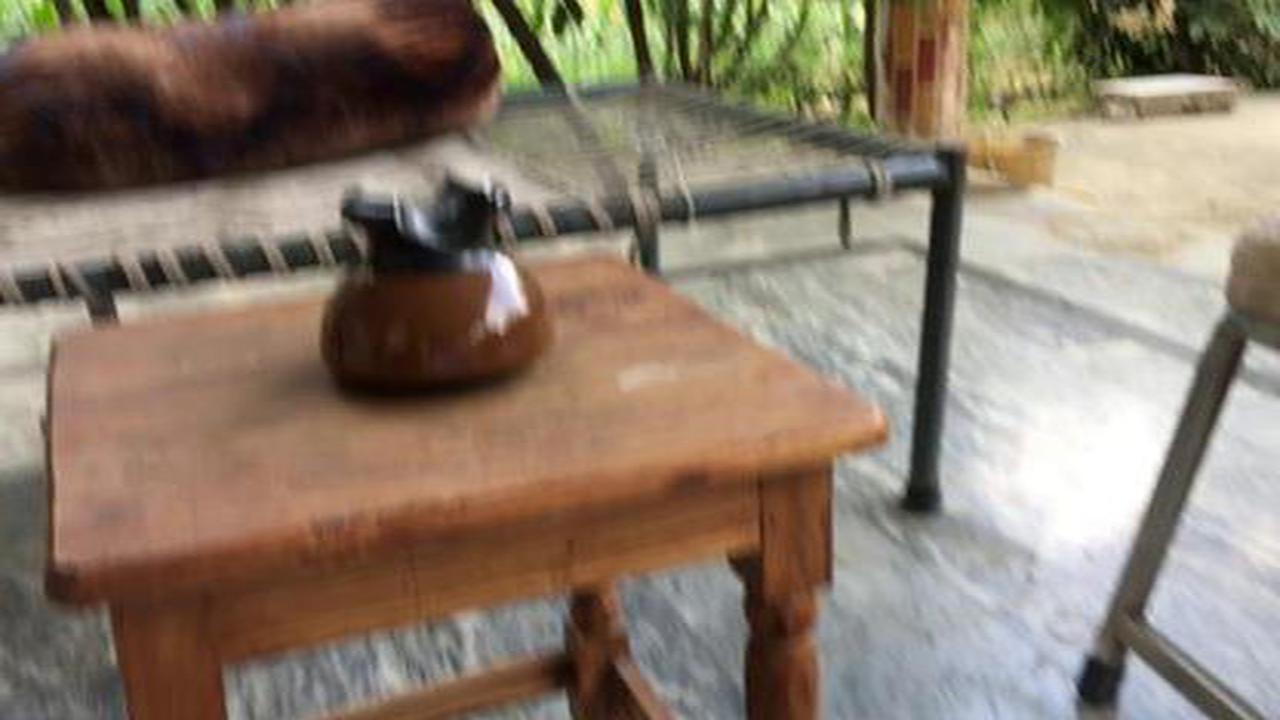insulator_pin: (299, 154, 570, 406)
